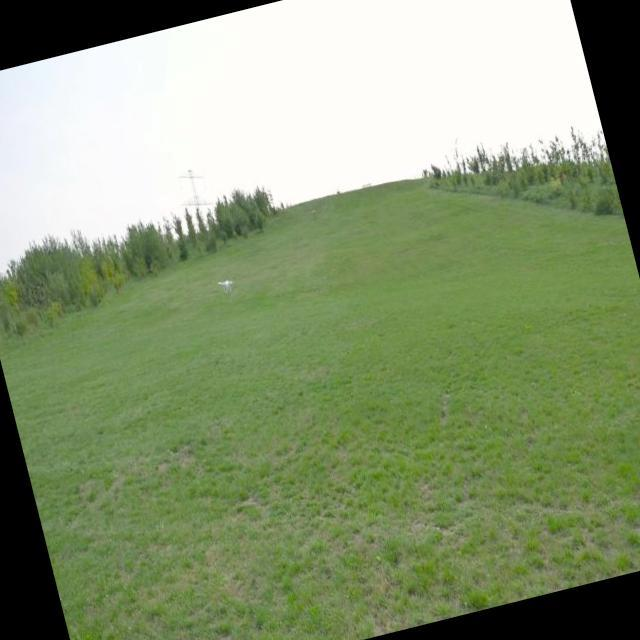drone: (212, 268, 238, 297)
